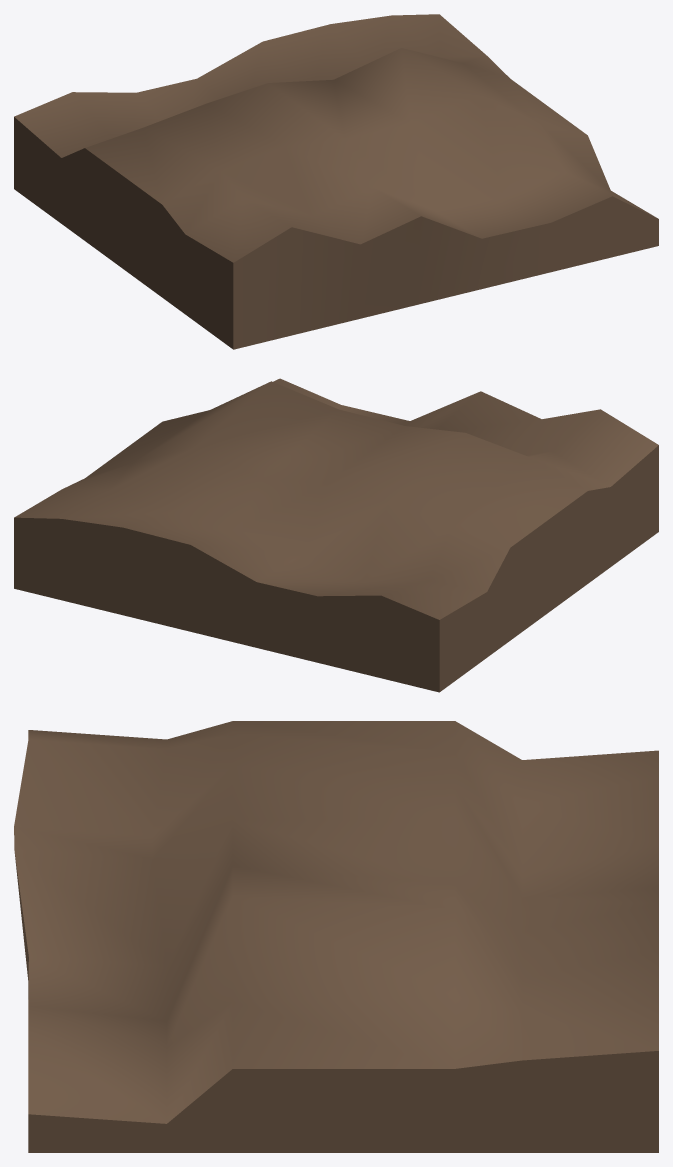
The model's file is dirt.fbx.
The picture shows the model from 3 angles, top to bottom: view 1: azimuth 30°, elevation 25°; view 2: azimuth 150°, elevation 25°; view 3: azimuth 270°, elevation 25°; orthographic projection. The views are drawn at different scales.
Parts seen in each view (by area): view 1: pasted__pCube3; view 2: pasted__pCube3; view 3: pasted__pCube3.
Part boxes in pixels (<box>): pasted__pCube3: <box>14,14,658,349</box>; pasted__pCube3: <box>14,378,658,692</box>; pasted__pCube3: <box>14,721,658,1152</box>.
Size of the model in its own units: 3.82 by 1.08 by 3.49.
